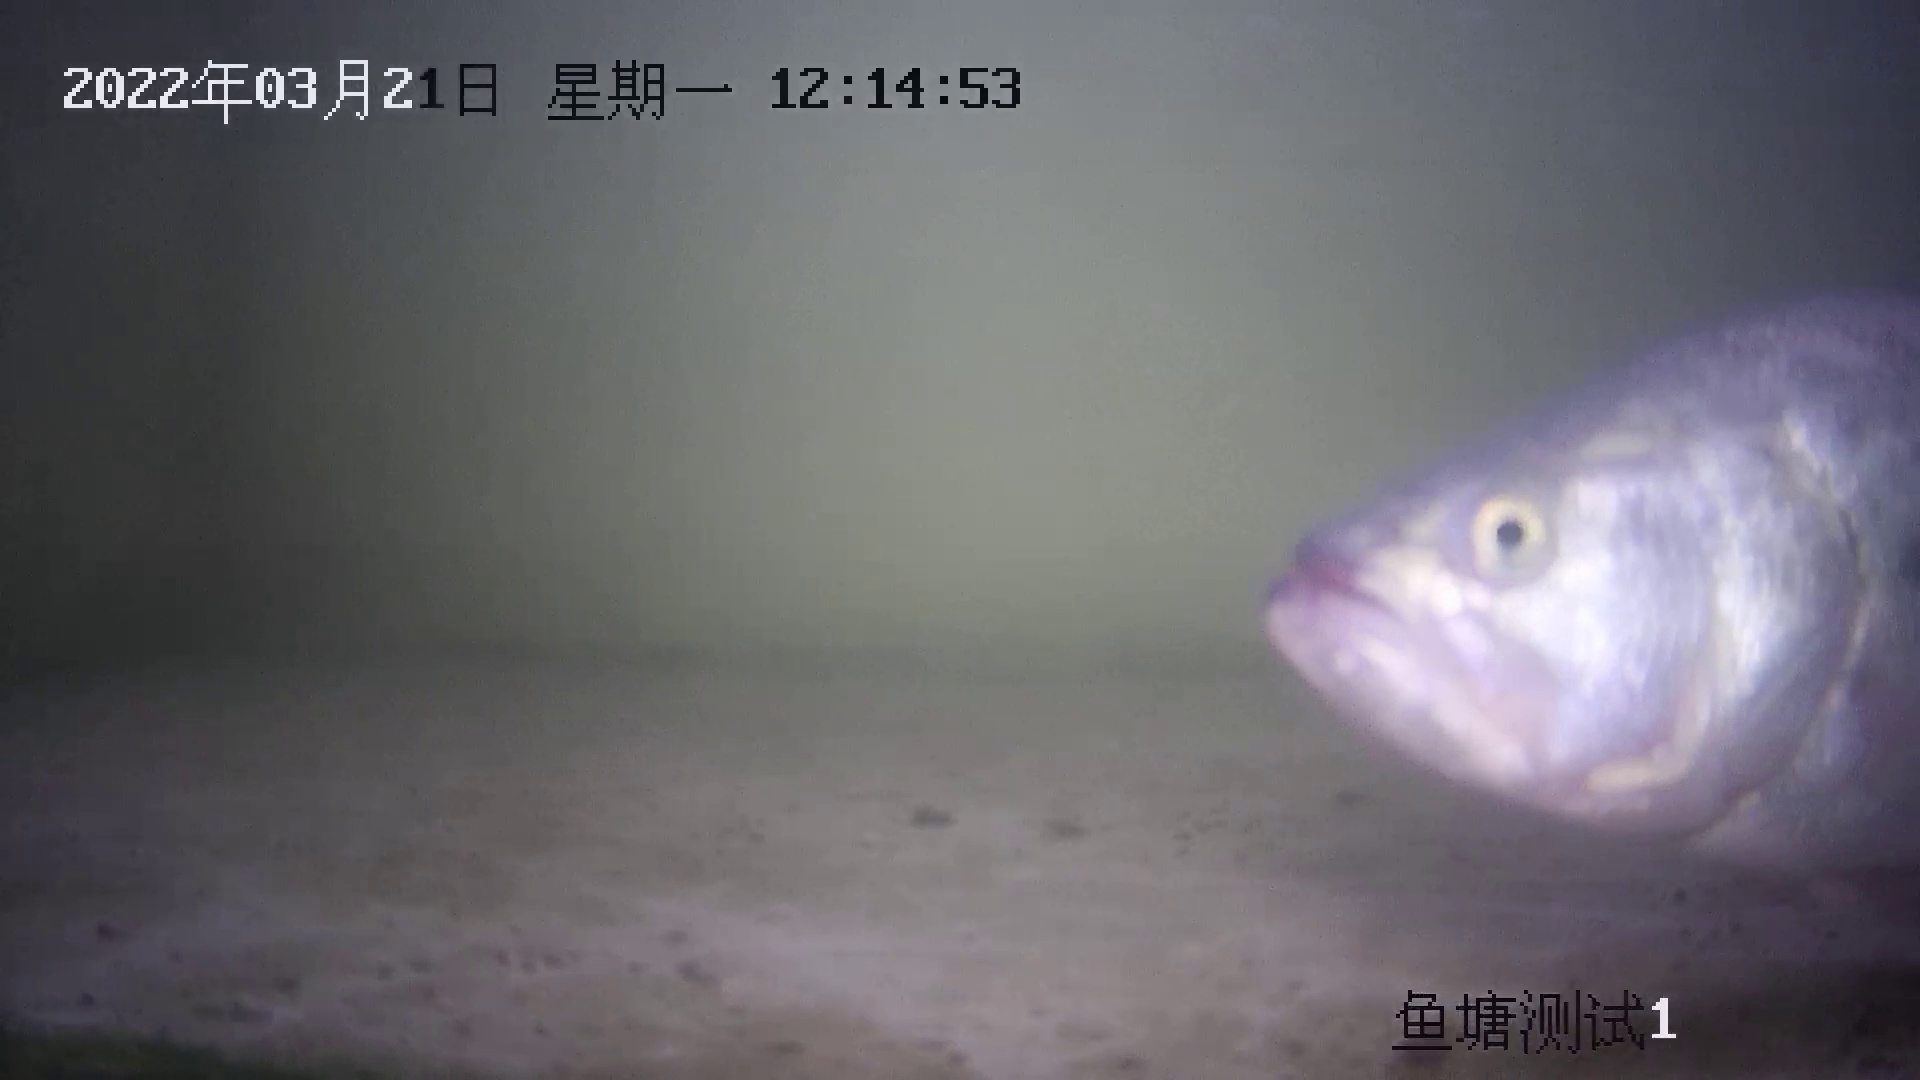fry: (1250, 282, 1920, 869)
